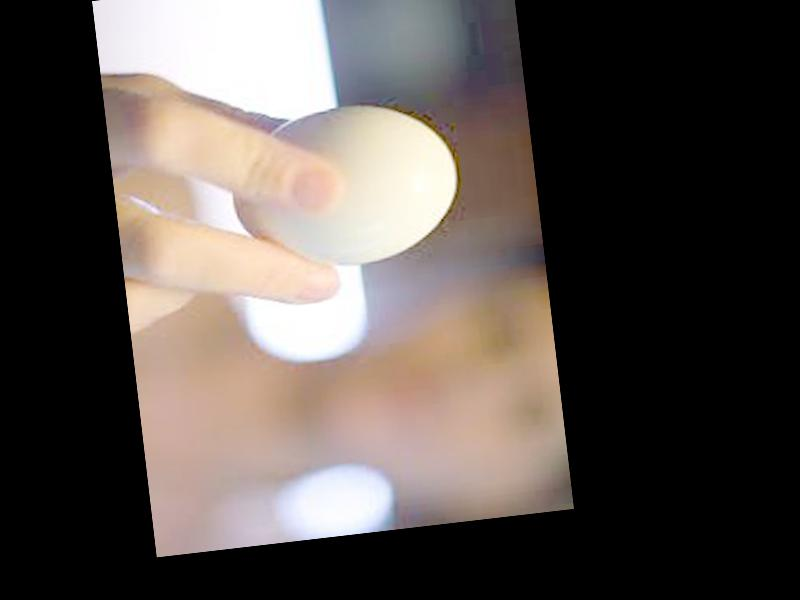Eggs: (223, 97, 465, 281)
